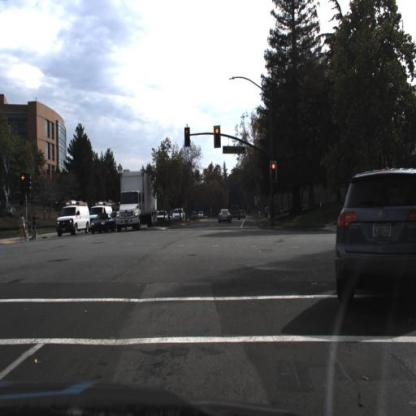biker: (17, 214, 31, 243), (18, 213, 25, 241), (33, 210, 37, 239)
car: (334, 162, 416, 327), (336, 162, 416, 329), (54, 204, 91, 235), (90, 203, 116, 228), (90, 213, 114, 233), (218, 207, 236, 226), (156, 210, 170, 224), (172, 208, 186, 222), (189, 207, 200, 223), (174, 209, 186, 221)
pedestrian: (30, 208, 40, 242), (31, 211, 41, 242), (115, 199, 125, 230)
trafficLight-Red: (212, 123, 222, 150), (269, 159, 279, 186)
trafficLight-RedLeft: (16, 172, 27, 197), (184, 124, 192, 149)
truck: (116, 171, 158, 232), (57, 201, 91, 236), (87, 202, 111, 226)
